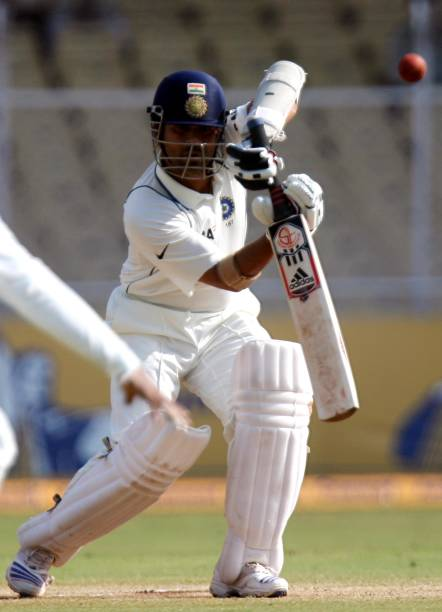bottom left: (308, 405, 331, 428)
bottom right: (345, 395, 372, 422)
top left: (258, 218, 282, 242)
top right: (293, 204, 315, 226)
